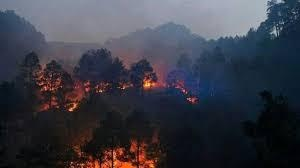fire: (70, 134, 162, 168), (141, 75, 199, 101)
